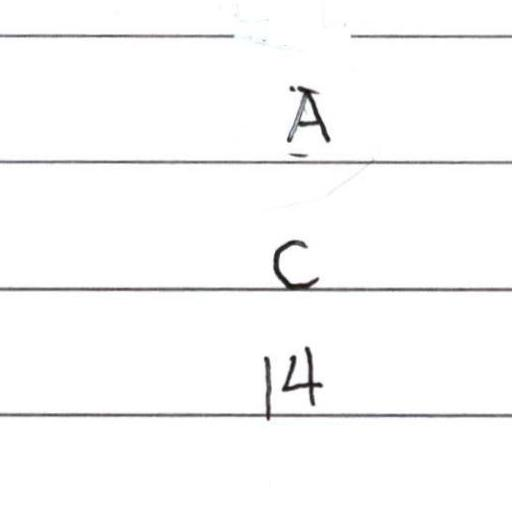ans: (259, 343, 323, 417), (270, 238, 321, 291), (286, 85, 330, 145)
